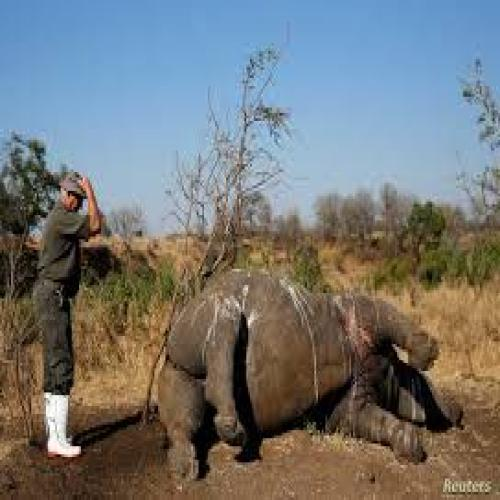rhino-endangered: (140, 272, 464, 488)
